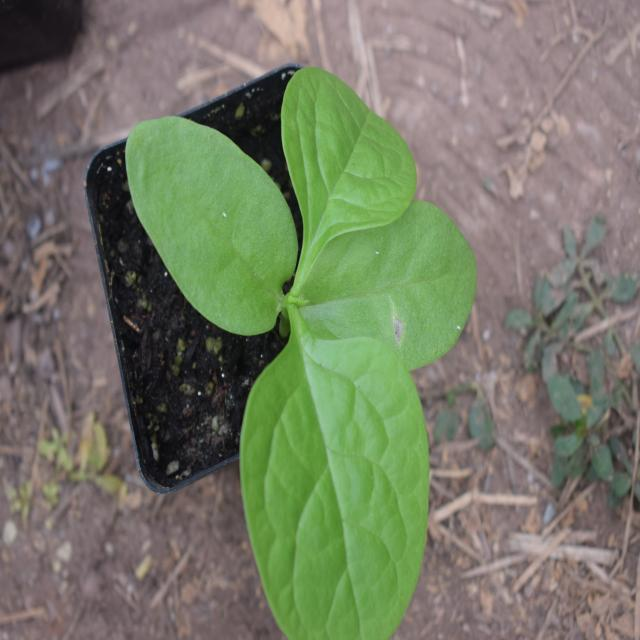Ceylon spinach: (146, 86, 464, 608)
